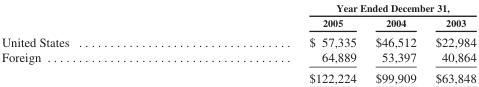table: (0, 1, 475, 84)
table column: (0, 1, 188, 84), (188, 1, 365, 84), (365, 1, 425, 84), (425, 1, 475, 84)
table column header: (0, 1, 475, 31)
table row: (0, 31, 475, 49), (0, 49, 475, 67), (0, 14, 475, 31), (0, 67, 475, 84), (0, 1, 475, 14)
table spanning cell: (188, 1, 475, 14)
